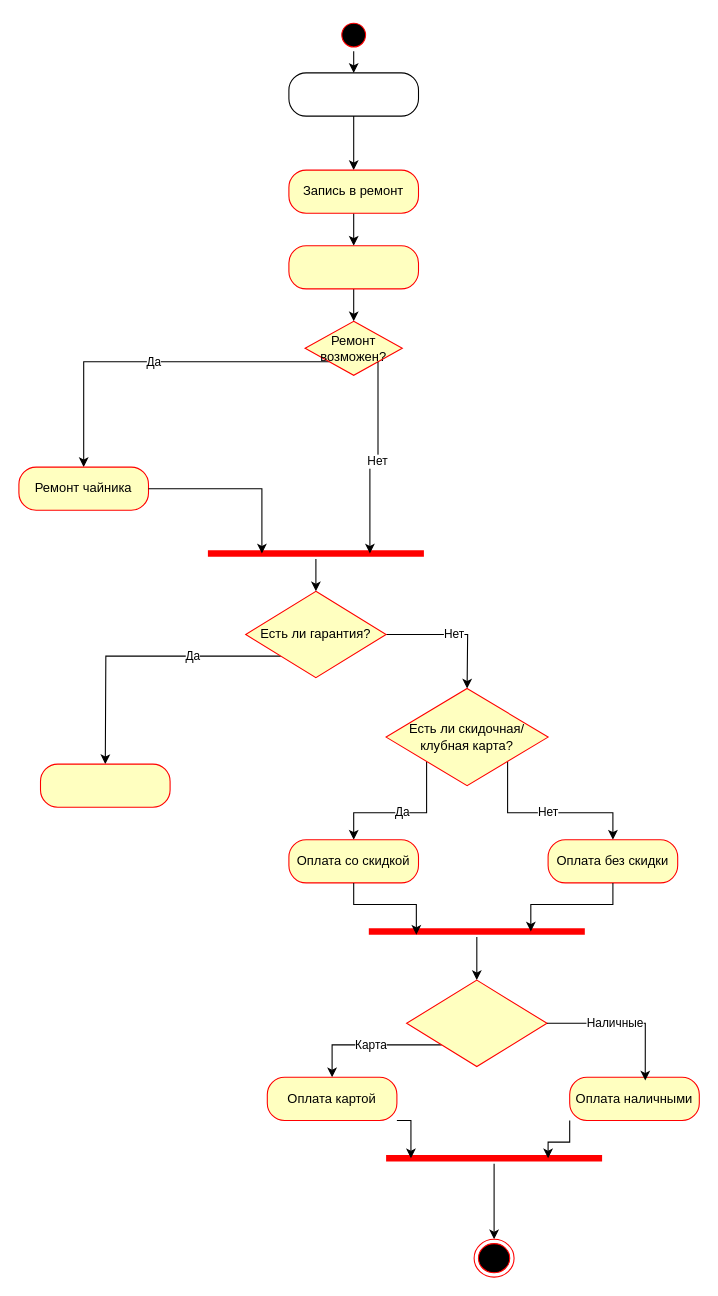
This 718x1296 diagram has some shape labels left out. The shapes that lost their labels are listed below. From the top down, each one's centre as x and y in pixels, then its label:
At (353,94): "Приносит чайник".
At (353,267): "Диагностика".
At (104,785): "Возврат денег либо товара".
At (476,1022): "Карта или наличные".
